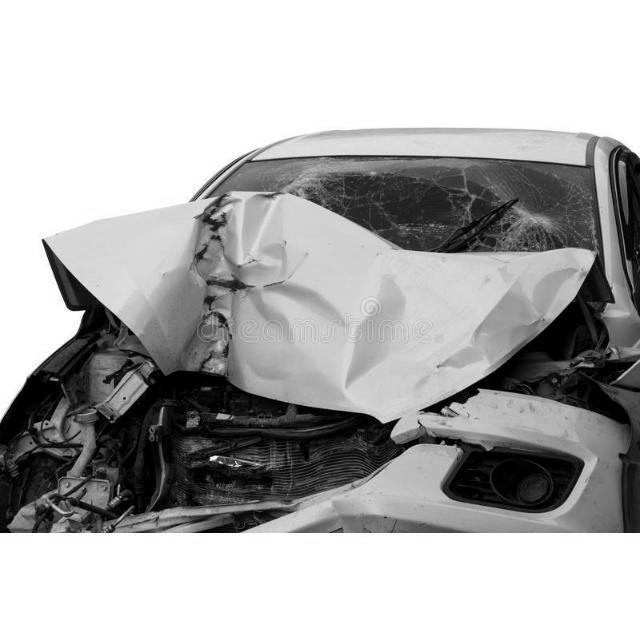Front-windscreen-damage: (188, 146, 604, 274)
bonnet-dent: (42, 236, 602, 396)
front-bumper-dent: (1, 396, 640, 532)
